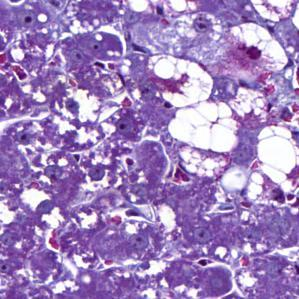ballooning: (168, 94, 240, 155), (149, 55, 216, 110), (228, 22, 290, 72), (251, 122, 298, 186)
